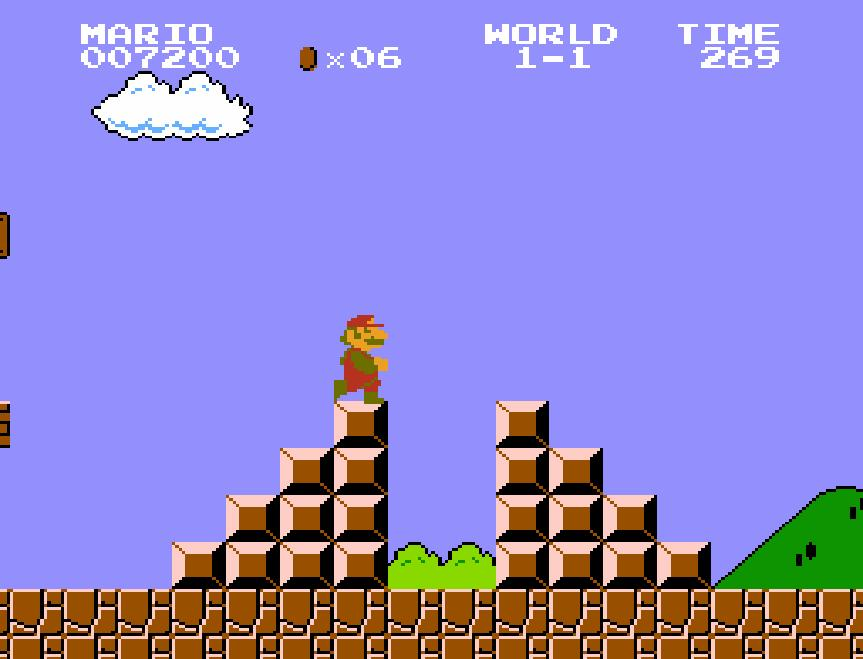big_mario: (332, 307, 390, 405)
